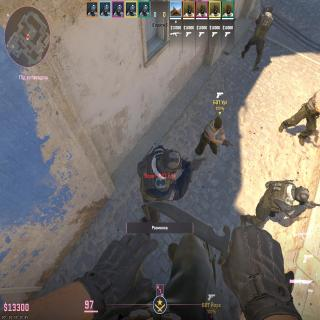CT-Body: (138, 144, 190, 223), (250, 178, 310, 222), (246, 3, 274, 59)
CT-Head: (160, 148, 182, 175), (294, 185, 310, 204), (266, 4, 274, 14)
T-Body: (280, 88, 320, 138), (195, 116, 226, 156)
T-Head: (215, 116, 222, 130)
